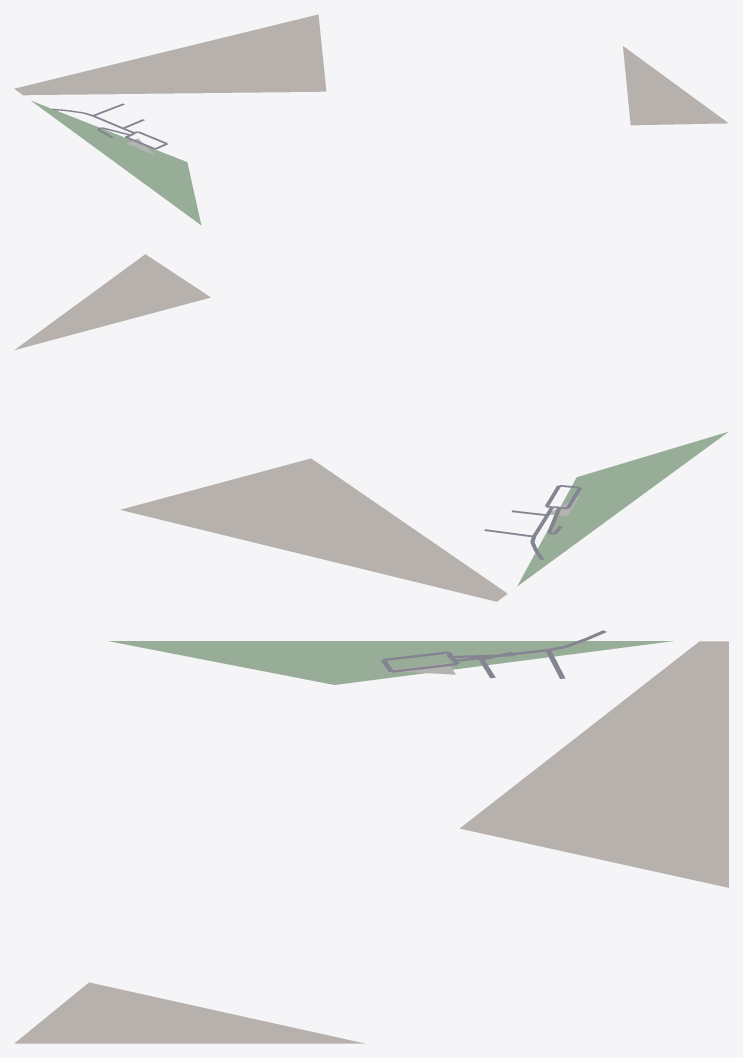
File: 99_91_mid.glb
The picture shows the model from 3 angles, top to bottom: view 1: azimuth 30°, elevation 25°; view 2: azimuth 150°, elevation 25°; view 3: azimuth 270°, elevation 25°; orthographic projection. The views are drawn at different scales.
Bounding box in the file's own units: 500 × 6.56 × 374.
